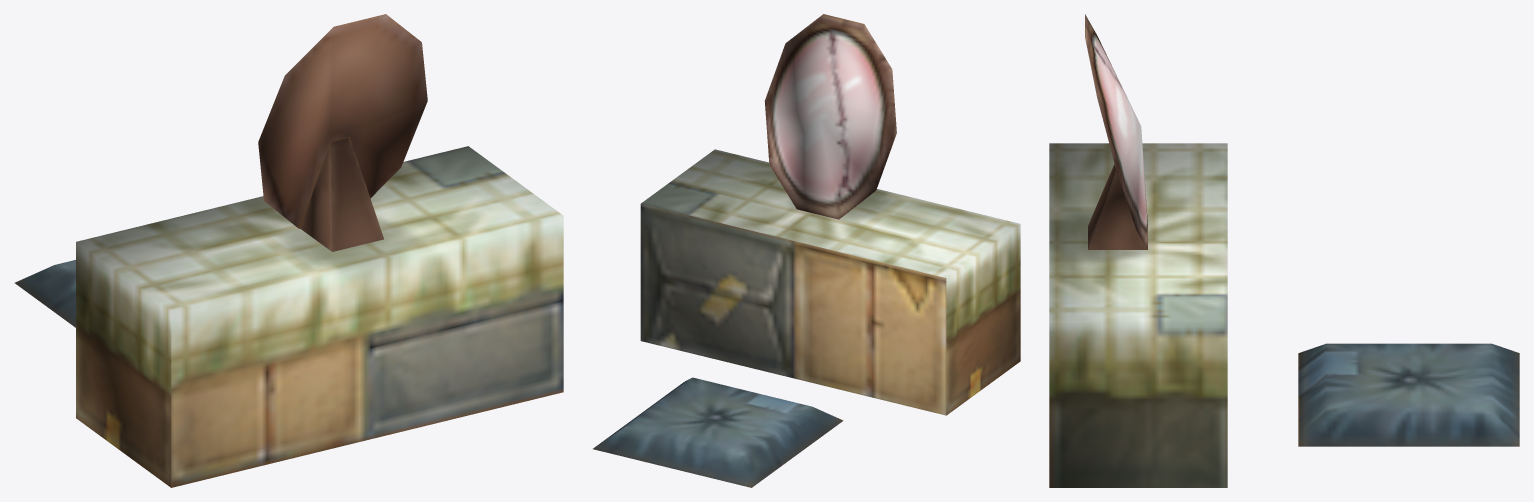
File: a_SWAmakeup01.glb
3 views of the same model, side by side, from view 1: azimuth 30°, elevation 25°; view 2: azimuth 150°, elevation 25°; view 3: azimuth 270°, elevation 25° (orthographic). The views are drawn at different scales.
Visible parts, largest first — view 1: a_SWAmakeup01; view 2: a_SWAmakeup01; view 3: a_SWAmakeup01.
Boxes of the visible parts, x1=… form: a_SWAmakeup01: x1=15, y1=14, x2=563, y2=487; a_SWAmakeup01: x1=593, y1=14, x2=1020, y2=487; a_SWAmakeup01: x1=1049, y1=14, x2=1519, y2=487.
Size of the model in its own units: 1.26 by 1.24 by 1.39.
Materials: 1 (1 with a texture image).
